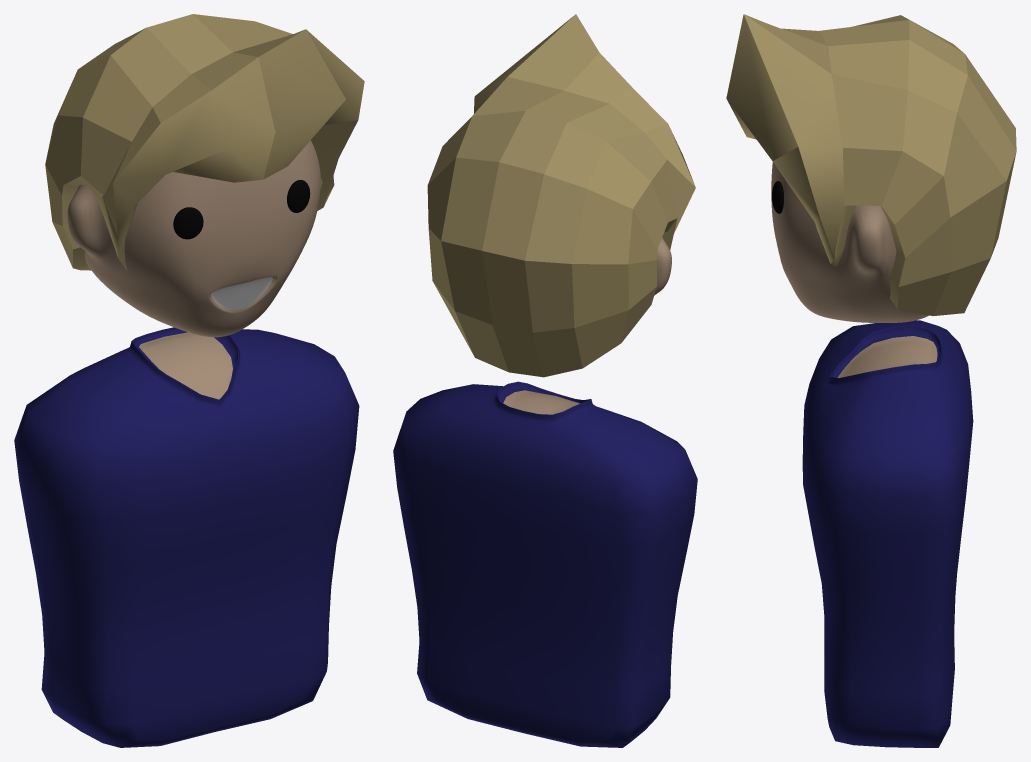
Rendered from Avatar_02_Male.fbx.
The picture shows the model from 3 angles, left to right: view 1: azimuth 30°, elevation 25°; view 2: azimuth 150°, elevation 25°; view 3: azimuth 270°, elevation 25°; orthographic projection. The views are drawn at different scales.
Parts seen in each view (by area): view 1: Body, Head; view 2: Body, Head; view 3: Head, Body.
Part boxes in pixels (x1=…): Body: x1=14, y1=327, x2=359, y2=747; Head: x1=45, y1=14, x2=364, y2=337; Body: x1=393, y1=381, x2=697, y2=747; Head: x1=427, y1=14, x2=695, y2=377; Head: x1=726, y1=14, x2=1016, y2=322; Body: x1=802, y1=320, x2=973, y2=747.
Size of the model in its own units: 38.65 by 86.58 by 32.07.
